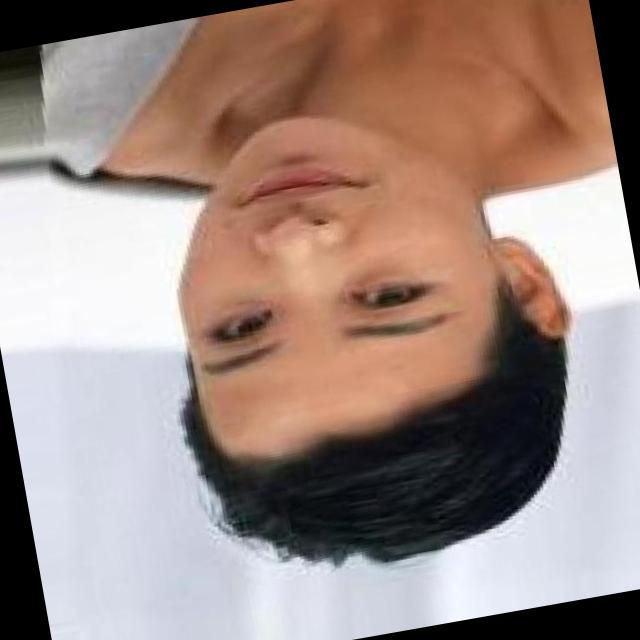bareface: (135, 106, 526, 504)
